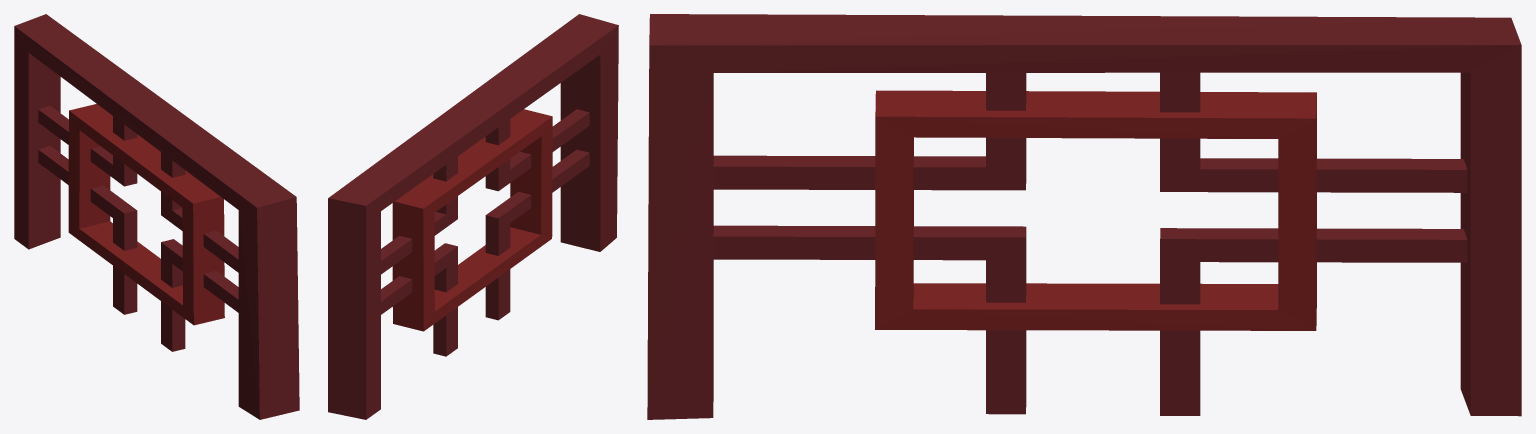
Rendered from Fence_4_1 Asia.fbx.
3 renders of one model, left to right at view 1: azimuth 30°, elevation 25°; view 2: azimuth 150°, elevation 25°; view 3: azimuth 270°, elevation 25°, orthographic. The views are drawn at different scales.
Parts seen in each view (by area): view 1: Fence_4_1; view 2: Fence_4_1; view 3: Fence_4_1.
Boxes of the visible parts, left/top/right/bottom form: Fence_4_1: left=14, top=14, right=299, bottom=419; Fence_4_1: left=328, top=14, right=618, bottom=419; Fence_4_1: left=647, top=14, right=1521, bottom=419.
Bounding box in the file's own units: 0.1671 × 0.8325 × 1.73.
